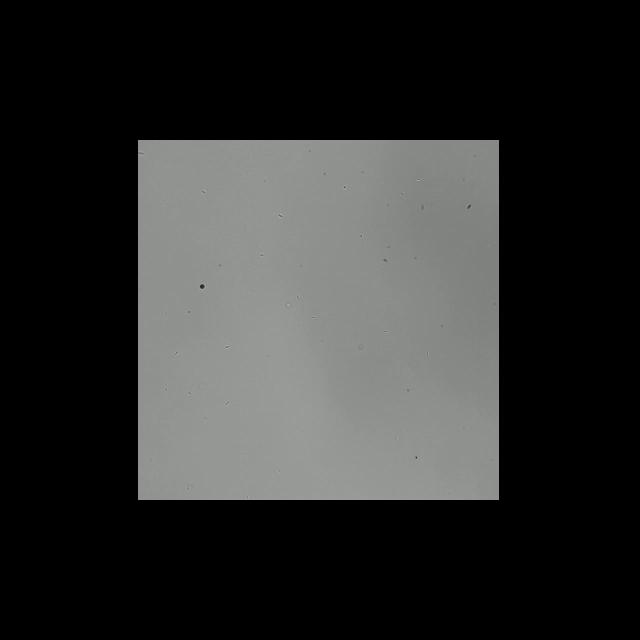microbeads: (199, 283, 205, 289)
